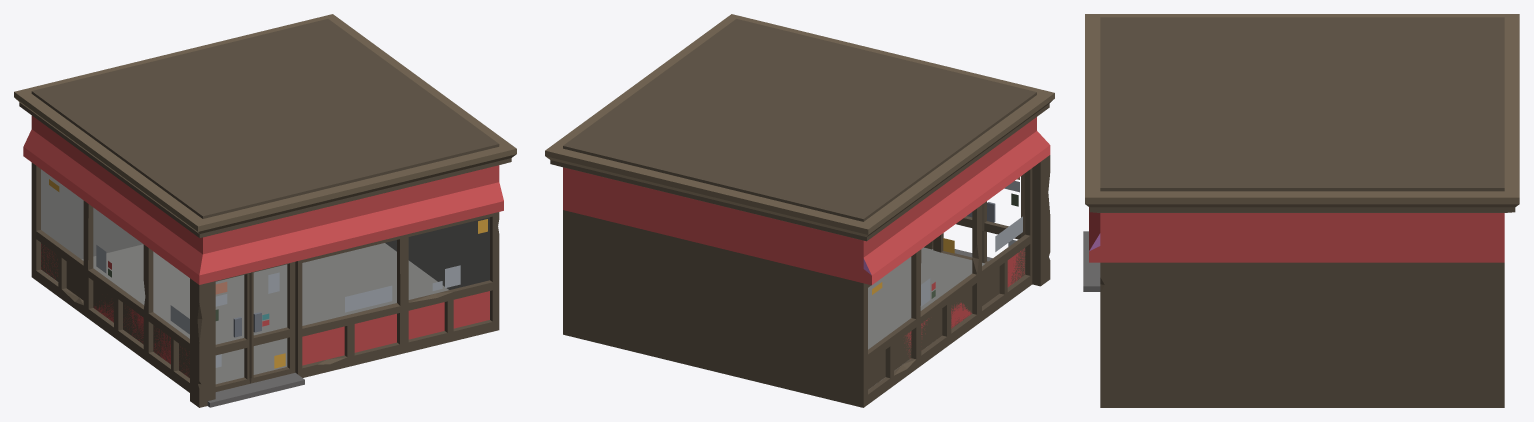
The model's file is Mod_Tienda_1.fbx.
The picture shows the model from 3 angles, left to right: view 1: azimuth 30°, elevation 25°; view 2: azimuth 150°, elevation 25°; view 3: azimuth 270°, elevation 25°; orthographic projection. The views are drawn at different scales.
Visible parts, largest first — view 1: SM_Bld_Shop_Corner_01; view 2: SM_Bld_Shop_Corner_01; view 3: SM_Bld_Shop_Corner_01.
Part boxes in pixels (x1=…): SM_Bld_Shop_Corner_01: x1=14, y1=14, x2=516, y2=407; SM_Bld_Shop_Corner_01: x1=545, y1=14, x2=1054, y2=407; SM_Bld_Shop_Corner_01: x1=1083, y1=14, x2=1519, y2=407.
Bounding box in the file's own units: 5.38 × 3 × 5.4.
